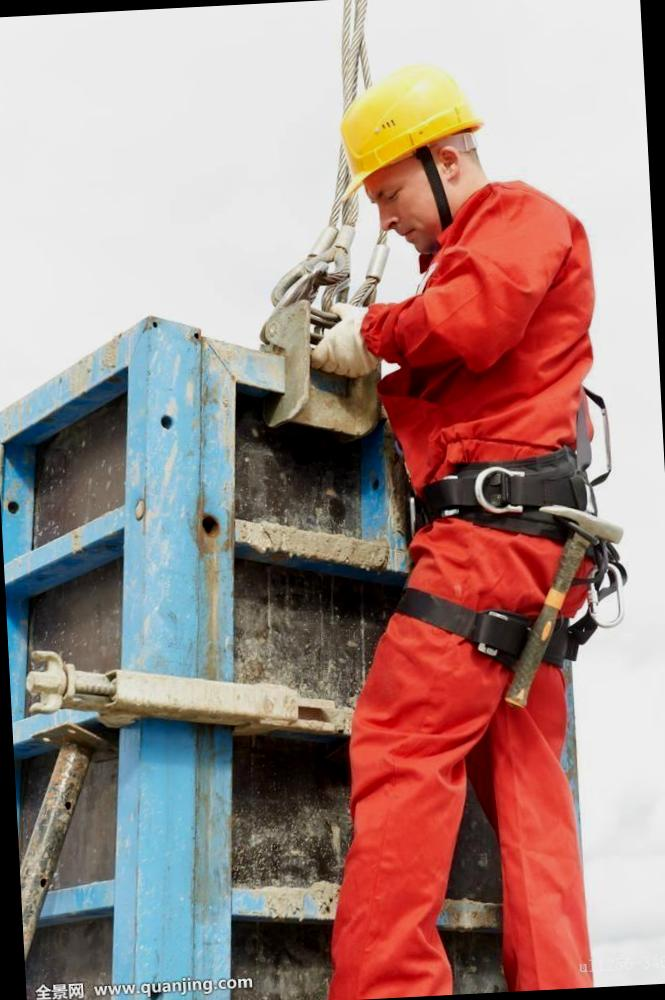helmet: (314, 64, 492, 216)
person: (272, 52, 649, 996)
